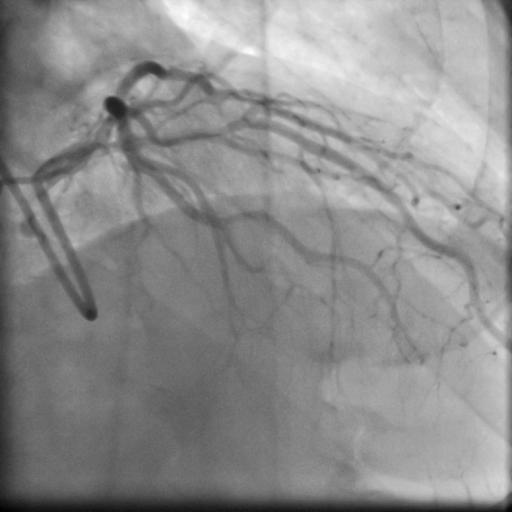Stenosis: (159, 130, 222, 144)
